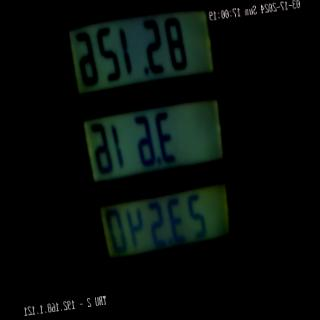screen: (56, 0, 246, 287)
